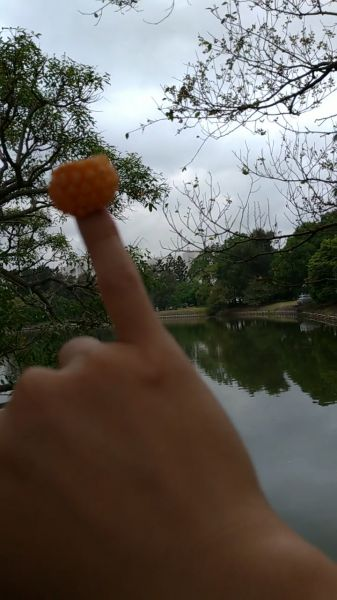eggs: (45, 155, 125, 216)
